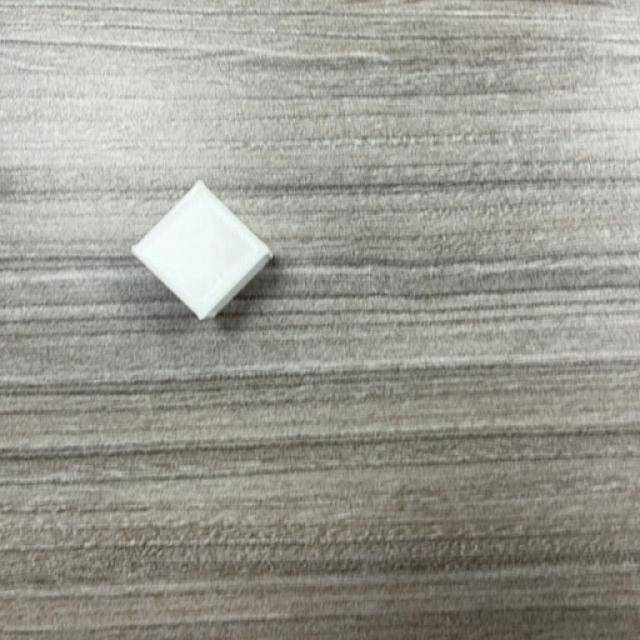Blanco: (130, 182, 275, 321)
